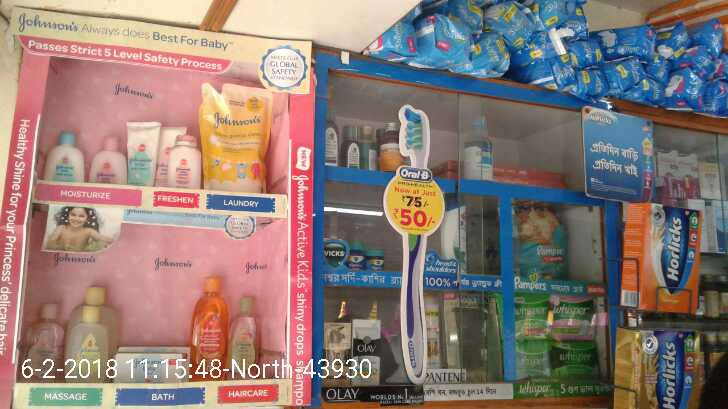vicks: (344, 241, 386, 275)
